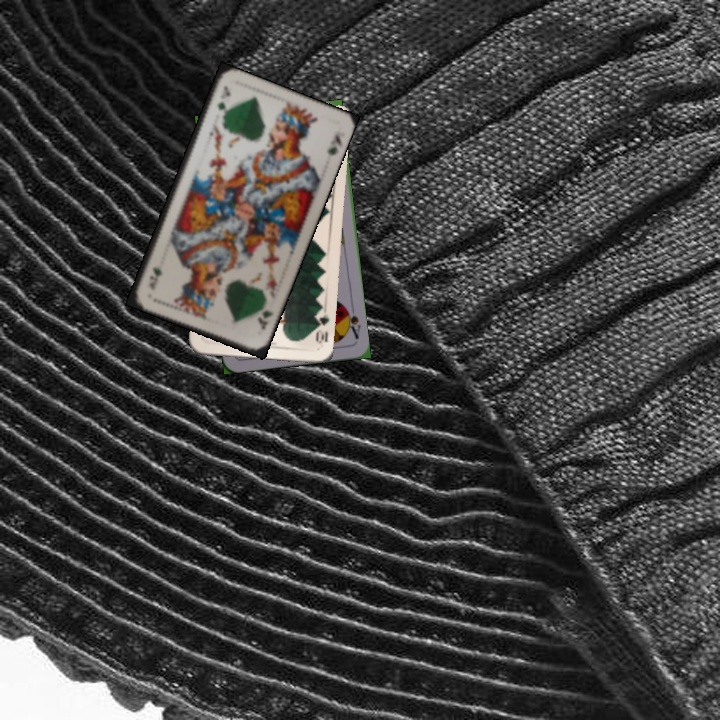G10: (311, 307, 332, 346)
GK: (213, 82, 233, 113), (254, 306, 276, 332)
SA: (341, 303, 363, 342)
